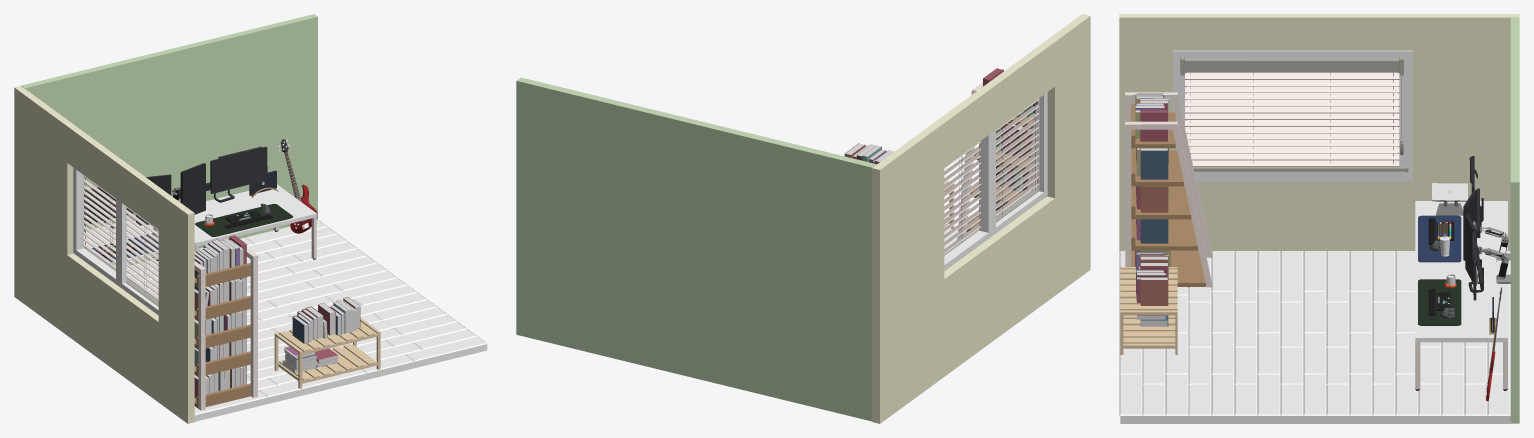
File: exclude-chair.glb
3 views of the same model, side by side, from view 1: azimuth 30°, elevation 25°; view 2: azimuth 150°, elevation 25°; view 3: azimuth 270°, elevation 25° (orthographic). The views are drawn at different scales.
Visible parts, largest first — view 1: baked; view 2: baked; view 3: baked.
Boxes of the visible parts, x1,y1,x2,y2 form: baked: (14,14,487,423); baked: (516,14,1090,423); baked: (1119,14,1519,423).
Bounding box in the file's own units: 10.23 × 6.84 × 10.26.
